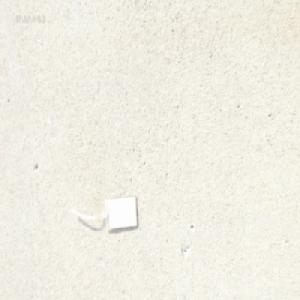LuggageTag: (70, 193, 140, 234)
